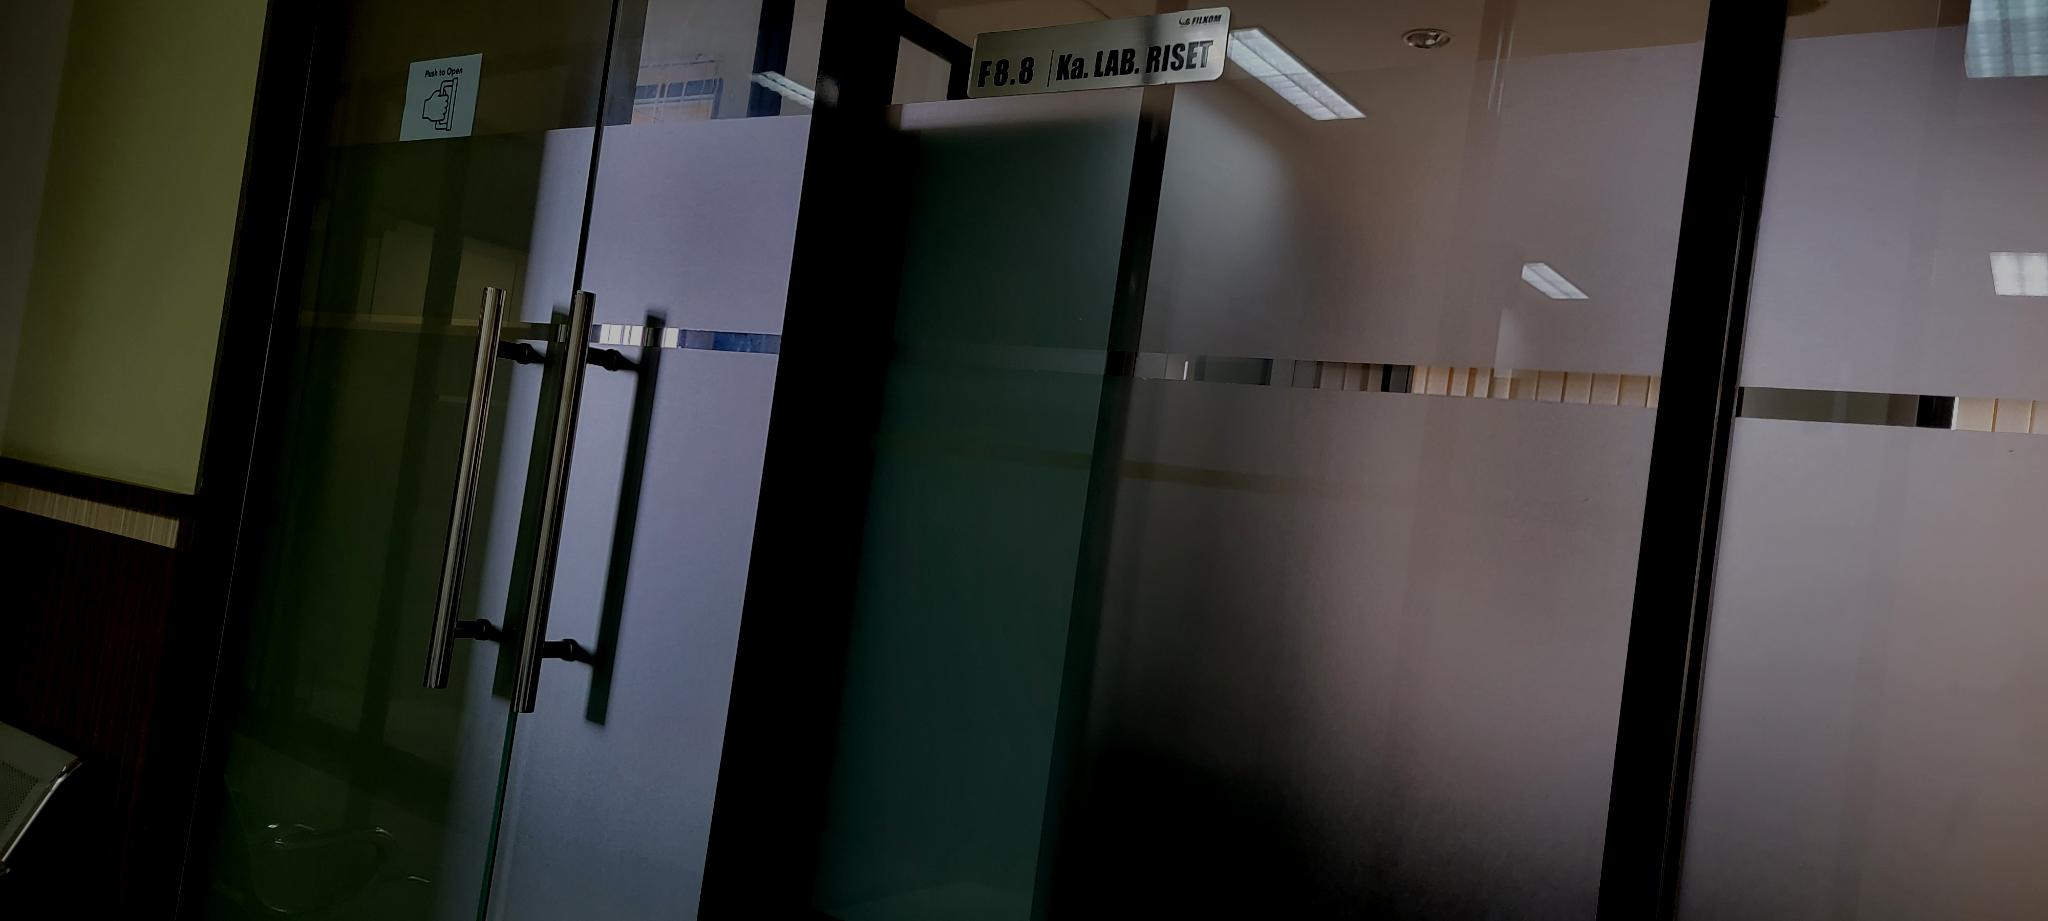plate: (965, 3, 1230, 103)
